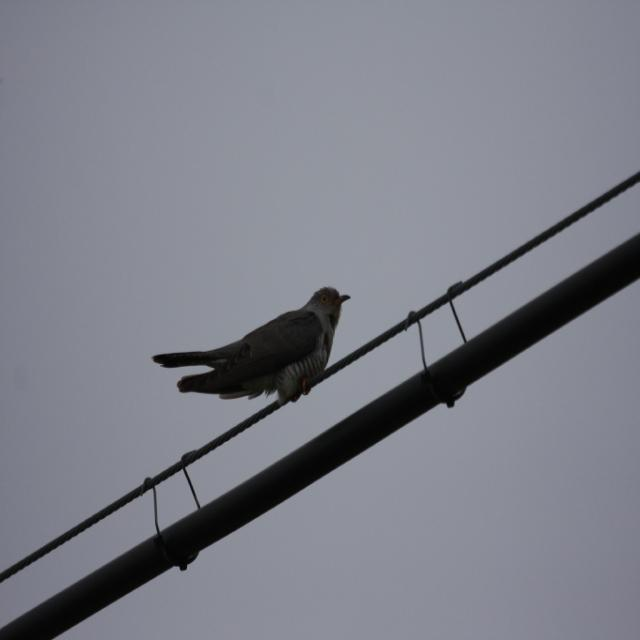bird: (146, 274, 357, 408)
